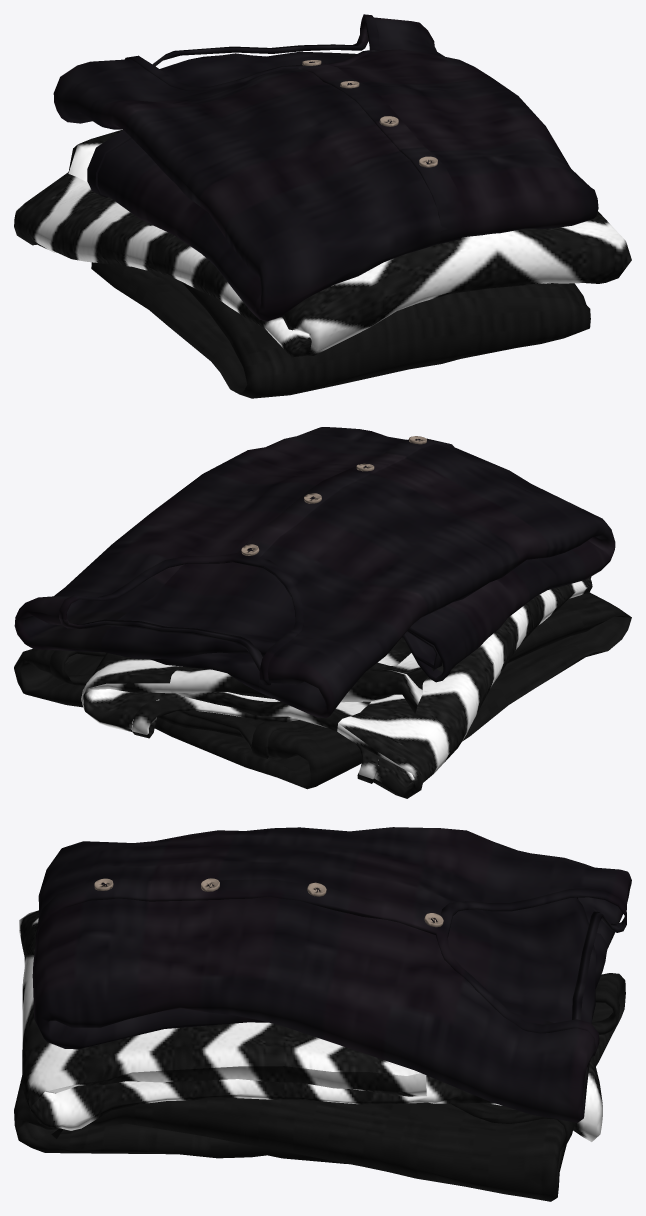
File: Clothes_acc_01.glb
The picture shows the model from 3 angles, top to bottom: view 1: azimuth 30°, elevation 25°; view 2: azimuth 150°, elevation 25°; view 3: azimuth 270°, elevation 25°; orthographic projection. The views are drawn at different scales.
Visible parts, largest first — view 1: BP_Clothes_acc_01; view 2: BP_Clothes_acc_01; view 3: BP_Clothes_acc_01.
Boxes of the visible parts, left/top/right/bottom form: BP_Clothes_acc_01: left=14, top=14, right=631, bottom=398; BP_Clothes_acc_01: left=14, top=427, right=631, bottom=798; BP_Clothes_acc_01: left=14, top=827, right=631, bottom=1201.
Bounding box in the file's own units: 0.3181 × 0.1329 × 0.3463.
Materials: 4 (3 with a texture image).
